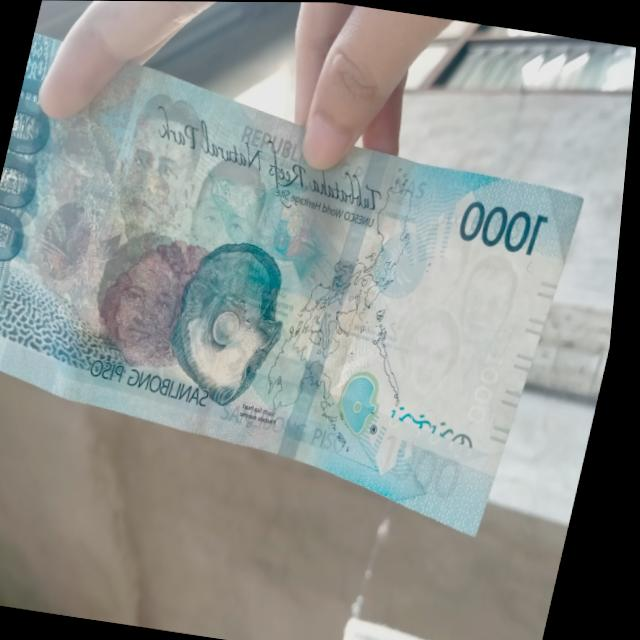see_through_mark: (389, 403, 490, 455)
value_watermark: (469, 346, 518, 429)
watermark: (391, 212, 537, 426)
